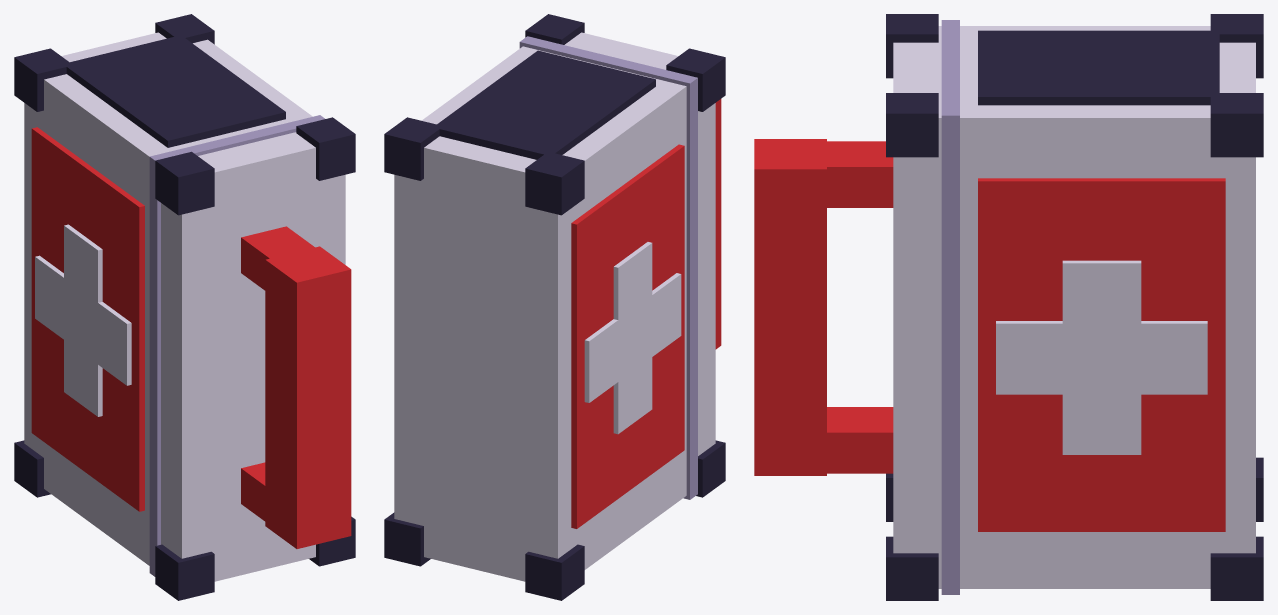
Rendered from med_kit.lod1.glb.
3 renders of one model, left to right at view 1: azimuth 30°, elevation 25°; view 2: azimuth 150°, elevation 25°; view 3: azimuth 270°, elevation 25°, orthographic. The views are drawn at different scales.
Parts seen in each view (by area): view 1: item.med_kit.body; view 2: item.med_kit.body; view 3: item.med_kit.body.
Part boxes in pixels (left/top/right/bottom): item.med_kit.body: left=14, top=14, right=355, bottom=600; item.med_kit.body: left=384, top=14, right=725, bottom=600; item.med_kit.body: left=754, top=14, right=1263, bottom=600.
Size of the model in its own units: 0.2531 by 0.5562 by 0.5266.
